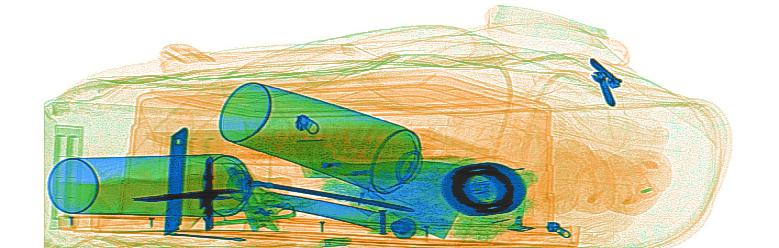knife: (164, 123, 189, 236)
pressure: (217, 79, 440, 203), (47, 151, 257, 218)
